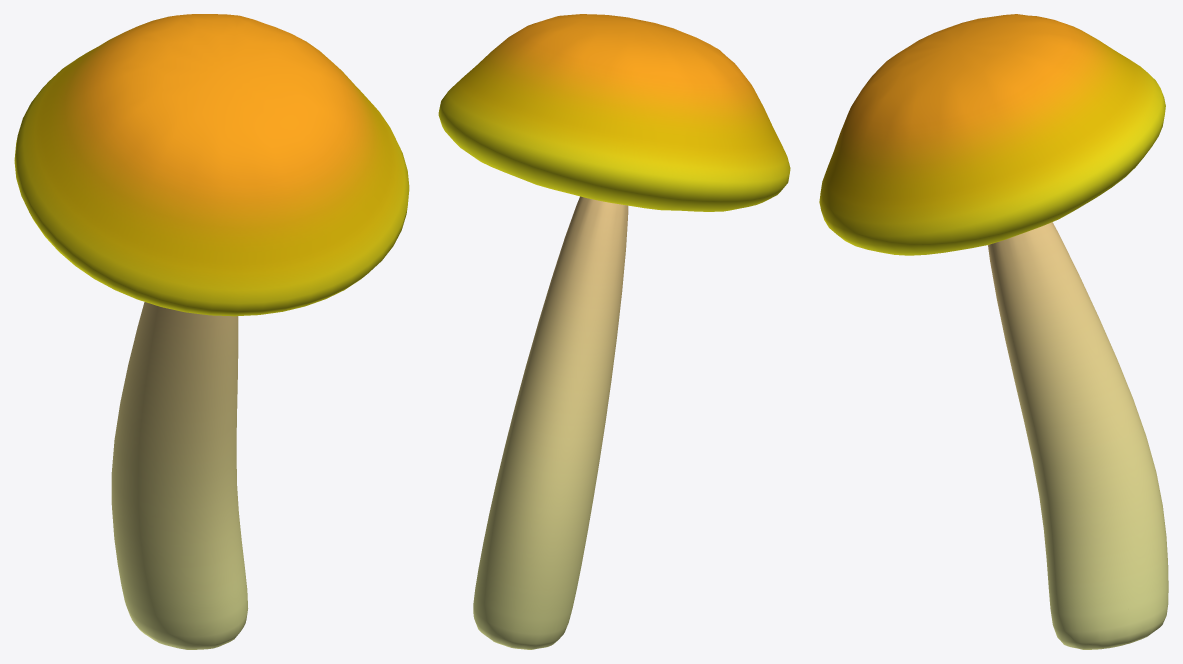
File: Mushroom.fbx
The picture shows the model from 3 angles, left to right: view 1: azimuth 30°, elevation 25°; view 2: azimuth 150°, elevation 25°; view 3: azimuth 270°, elevation 25°; orthographic projection. The views are drawn at different scales.
Parts seen in each view (by area): view 1: MushroomCap.001, MushroomStem.001; view 2: MushroomCap.001, MushroomStem.001; view 3: MushroomCap.001, MushroomStem.001.
Part boxes in pixels (x1,y1,x2,y2): MushroomCap.001: [14, 14, 409, 316]; MushroomStem.001: [111, 302, 248, 649]; MushroomCap.001: [438, 14, 790, 211]; MushroomStem.001: [473, 196, 628, 649]; MushroomCap.001: [819, 14, 1165, 255]; MushroomStem.001: [988, 222, 1168, 649].
Bounding box in the file's own units: 498 × 898 × 481.
